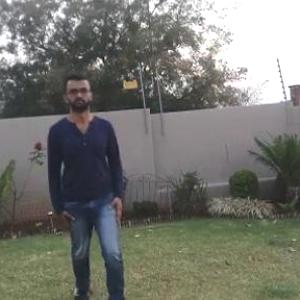follow: (53, 81, 122, 299)
